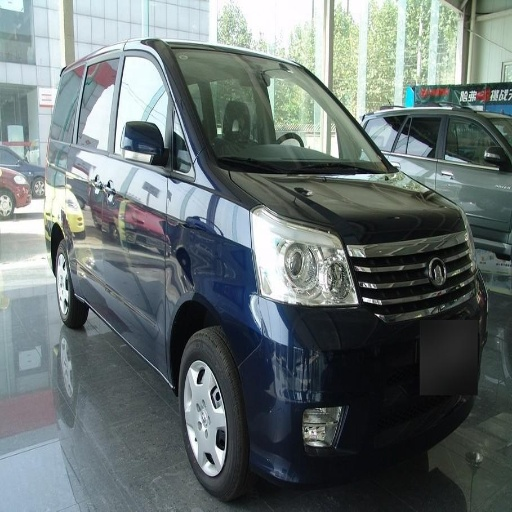front_bumper: (234, 233, 486, 482)
front_right_door: (101, 47, 194, 353), (451, 116, 489, 151)
front_right_light: (254, 209, 356, 305)
